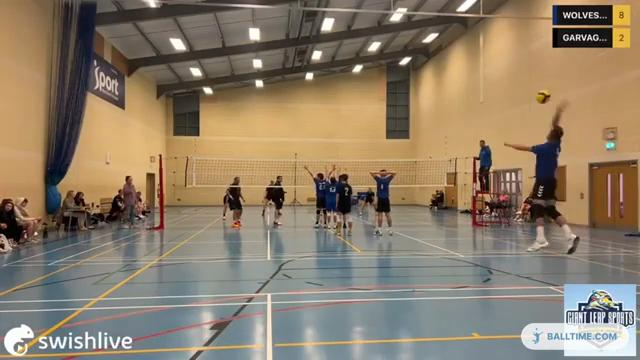battuta: (502, 99, 580, 255)
